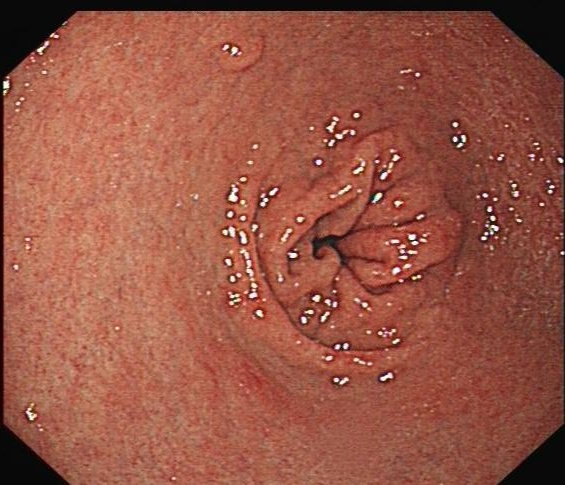Polyp: (205, 19, 282, 90)
